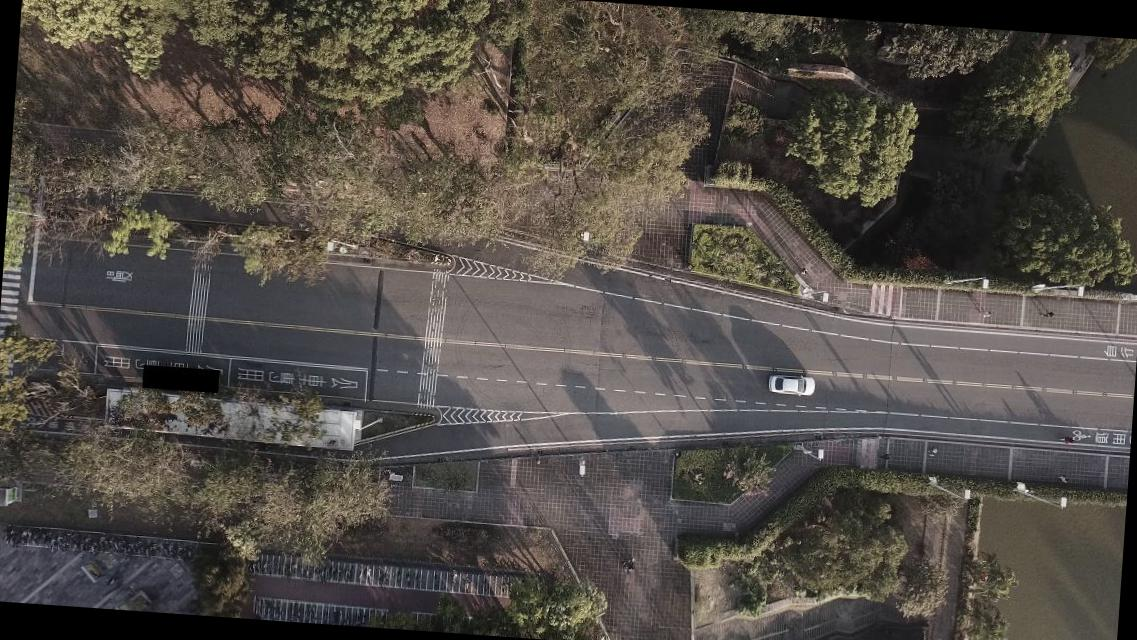vehicle: (766, 372, 814, 397)
